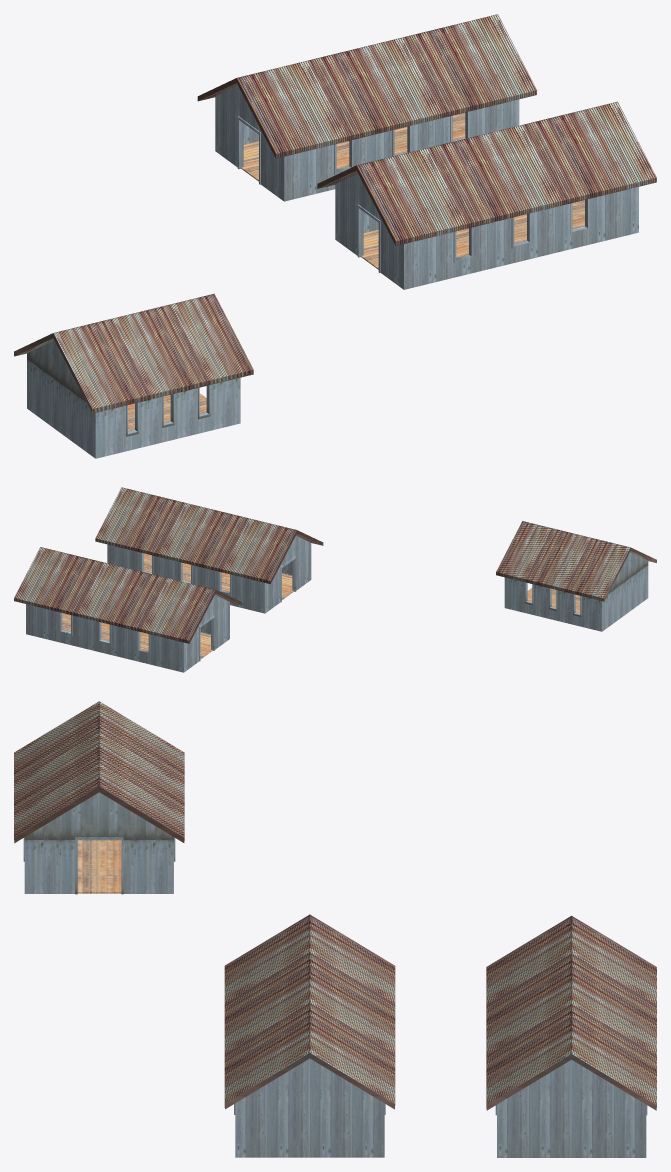
The model's file is dar.FBX.
The picture shows the model from 3 angles, top to bottom: view 1: azimuth 30°, elevation 25°; view 2: azimuth 150°, elevation 25°; view 3: azimuth 270°, elevation 25°; orthographic projection. The views are drawn at different scales.
Parts seen in each view (by area): view 1: Barracks01-Roof001, Barracks01-Roof, Barracks01-Roof002, Barracks01-Walls001, Barracks01-Walls002, Barracks01-Walls, Barracks01-Floor, Barracks01-Floor001; view 2: Barracks01-Roof001, Barracks01-Roof, Barracks01-Roof002, Barracks01-Walls, Barracks01-Walls002, Barracks01-Walls001, Barracks01-Floor001, Barracks01-Floor, Barracks01-Floor002; view 3: Barracks01-Roof001, Barracks01-Roof, Barracks01-Roof002, Barracks01-Walls001, Barracks01-Walls, Barracks01-Walls002, Barracks01-Floor002.
Part boxes in pixels (bbox=[...]): Barracks01-Roof001: bbox=[317, 101, 656, 245]; Barracks01-Roof: bbox=[197, 14, 537, 158]; Barracks01-Roof002: bbox=[14, 293, 253, 413]; Barracks01-Walls001: bbox=[335, 174, 638, 289]; Barracks01-Walls002: bbox=[27, 340, 240, 458]; Barracks01-Walls: bbox=[215, 85, 519, 201]; Barracks01-Floor: bbox=[241, 112, 465, 181]; Barracks01-Floor001: bbox=[361, 200, 584, 269]; Barracks01-Roof001: bbox=[95, 487, 323, 583]; Barracks01-Roof: bbox=[14, 547, 241, 643]; Barracks01-Roof002: bbox=[496, 521, 656, 601]; Barracks01-Walls: bbox=[26, 595, 229, 672]; Barracks01-Walls002: bbox=[504, 552, 648, 631]; Barracks01-Walls001: bbox=[107, 535, 311, 613]; Barracks01-Floor001: bbox=[143, 553, 293, 599]; Barracks01-Floor: bbox=[62, 613, 212, 658]; Barracks01-Floor002: bbox=[527, 588, 580, 613]; Barracks01-Roof001: bbox=[224, 914, 395, 1109]; Barracks01-Roof: bbox=[486, 915, 656, 1110]; Barracks01-Roof002: bbox=[14, 701, 184, 843]; Barracks01-Walls001: bbox=[234, 1058, 385, 1157]; Barracks01-Walls: bbox=[495, 1059, 647, 1157]; Barracks01-Walls002: bbox=[23, 792, 175, 894]; Barracks01-Floor002: bbox=[77, 840, 121, 893].
Size of the model in its own units: 2299 by 344 by 1779.
